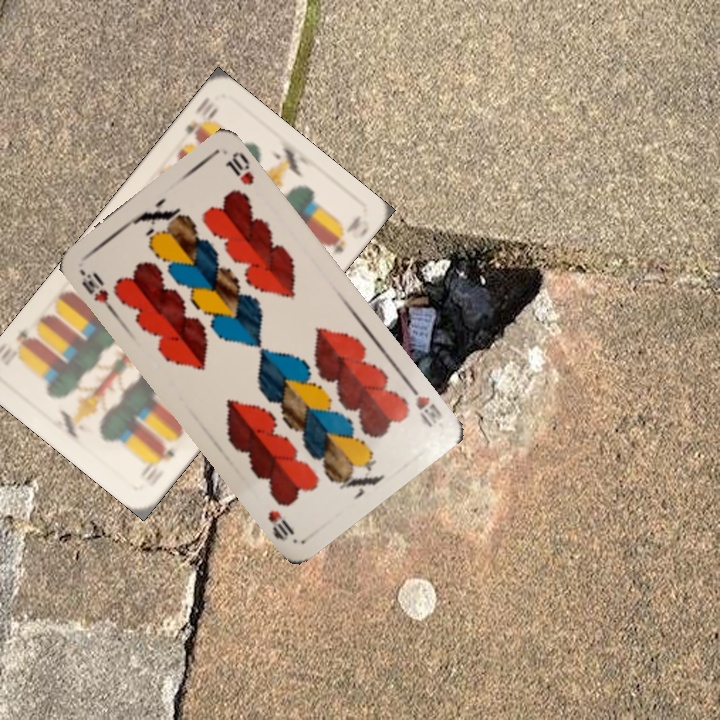E10: (181, 103, 221, 144), (142, 442, 177, 483)
H10: (402, 377, 445, 431), (75, 264, 117, 315)
